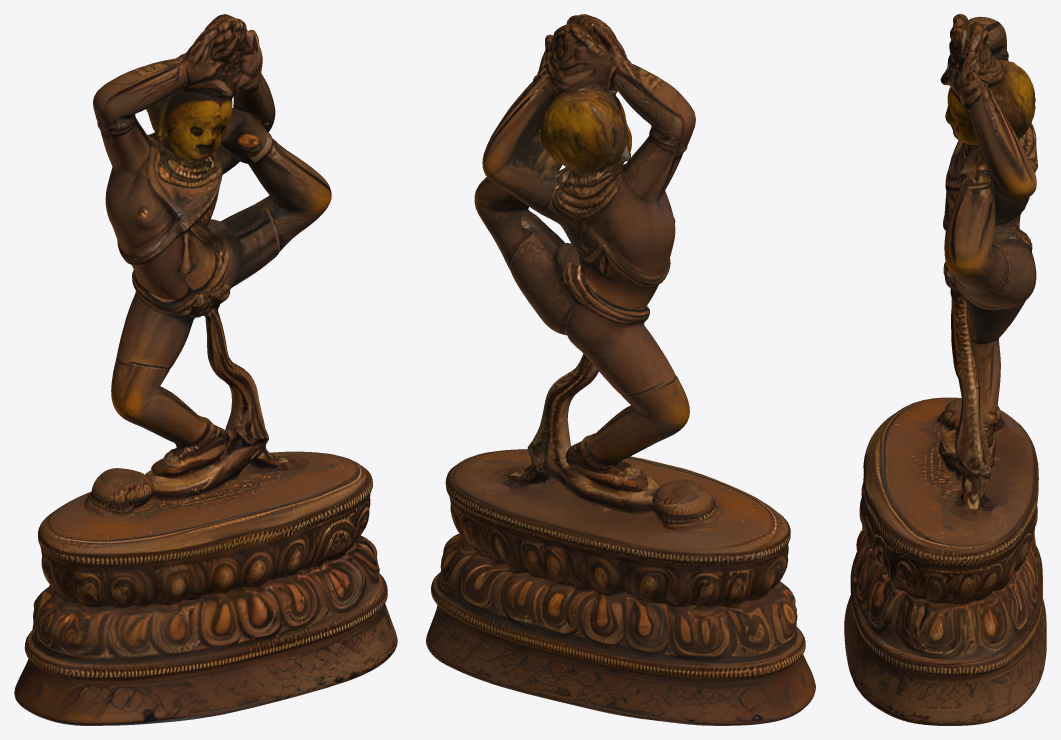
The picture shows the model from 3 angles, left to right: view 1: azimuth 30°, elevation 25°; view 2: azimuth 150°, elevation 25°; view 3: azimuth 270°, elevation 25°; orthographic projection. The views are drawn at different scales.
Parts seen in each view (by area): view 1: textured_mesh; view 2: textured_mesh; view 3: textured_mesh.
Boxes of the visible parts, <box> form: textured_mesh: <box>14,14,397,725</box>; textured_mesh: <box>426,14,815,725</box>; textured_mesh: <box>844,14,1046,725</box>.
Size of the model in its own units: 1.16 by 1.99 by 0.574.
1 material, 1 textured.
